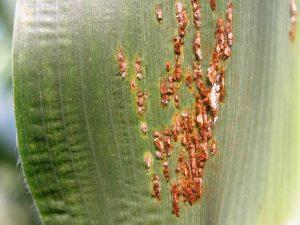Corn_Common_Rust: (144, 113, 220, 217), (172, 0, 236, 113), (113, 44, 148, 103), (158, 52, 173, 112), (133, 102, 146, 145), (152, 0, 169, 25)
